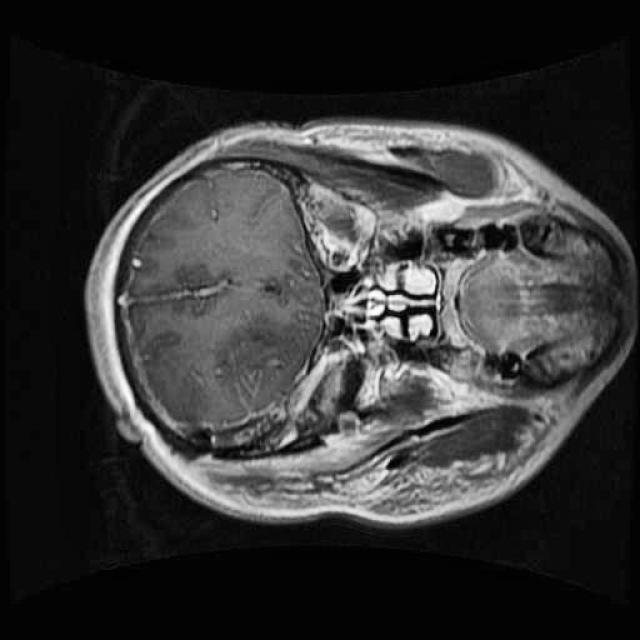Tumor: (243, 329, 385, 461)
